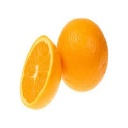orange: (55, 17, 109, 90)
